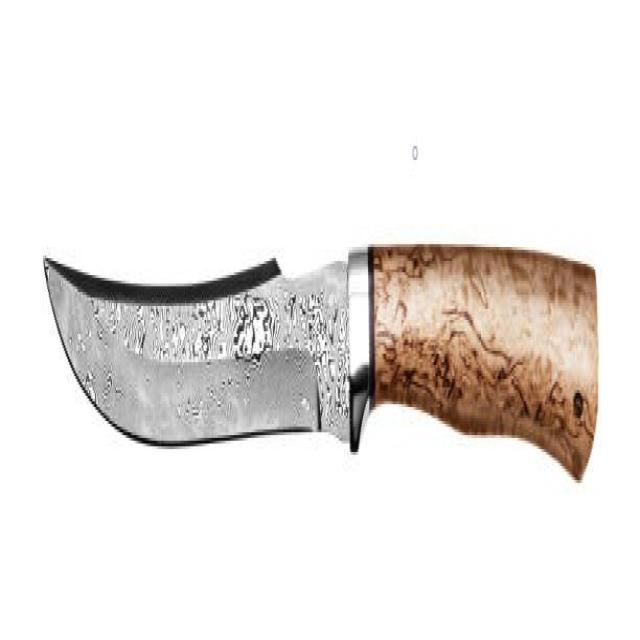knife: (41, 227, 604, 500)
